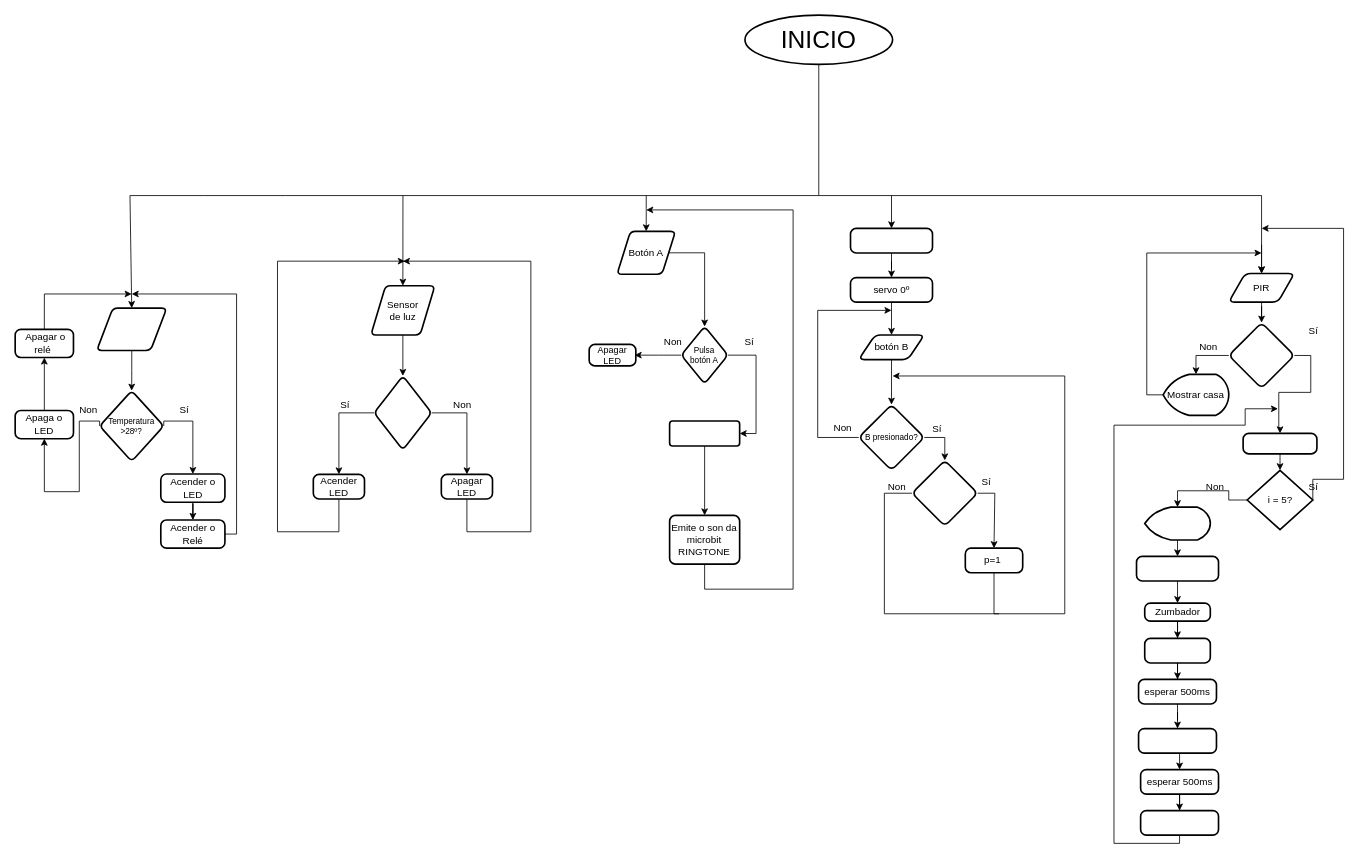
Image size: 1364x864. Some labels were removed from this diagram. Here are the shapes that lost their labels. From the top down, the centre of each, then its label:
the point at 891,240: P = 0
the point at 131,329: Sensor temperatura
the point at 1261,355: Detecta?
the point at 402,412: Luz <700?
the point at 704,433: Acender o LED 5 seg
the point at 1279,443: RINGTONE X2
the point at 944,492: p=0?
the point at 1177,523: Angry
the point at 1177,568: Neopixel vermello
the point at 1177,650: LED blanco
the point at 1177,740: apagar todo
the point at 1179,822: i = i + 1
